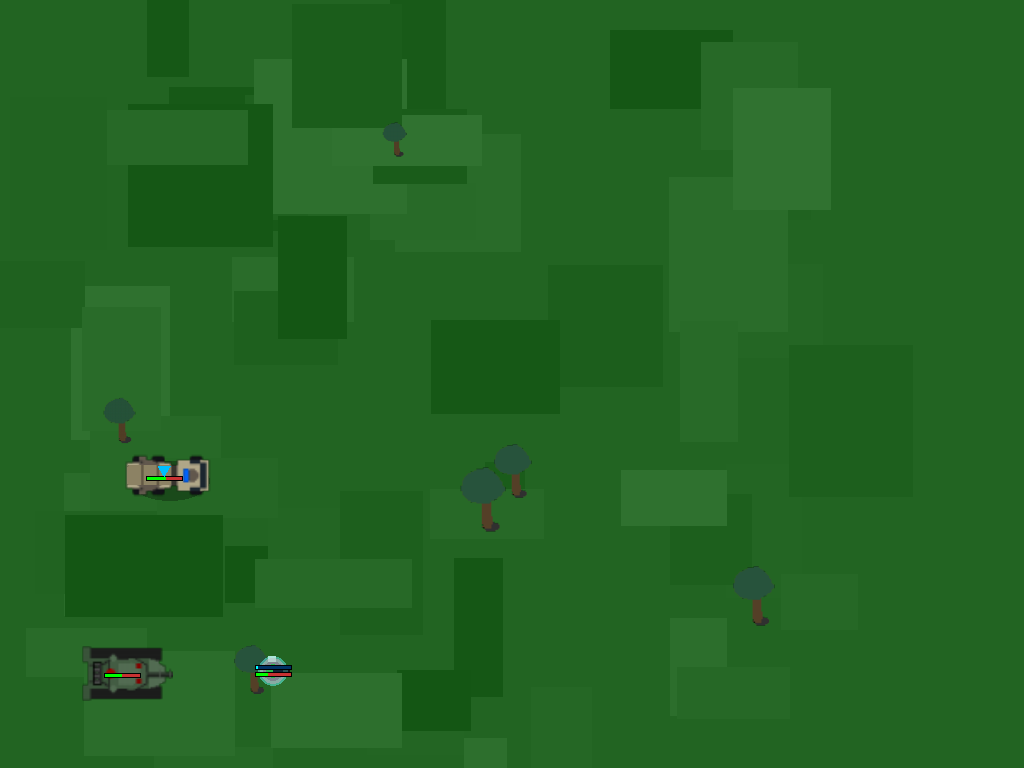ArmoredCar: (126, 437, 200, 511)
Bunker: (252, 650, 294, 692)
Shotgunner: (81, 631, 163, 713)
